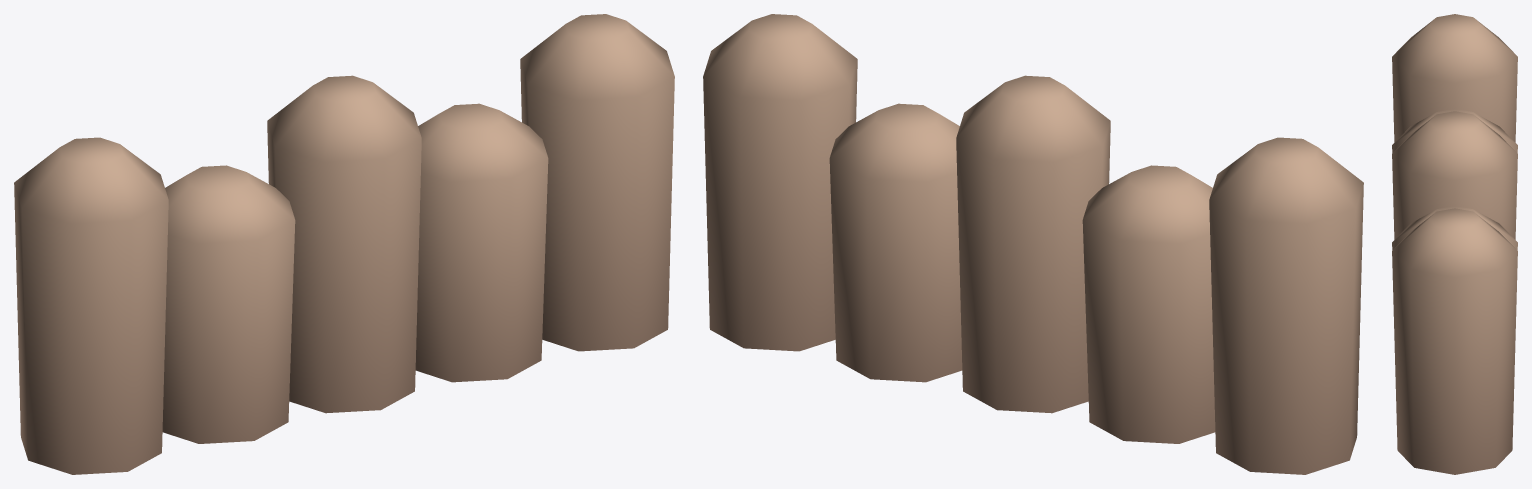
The model's file is flowerbed-fence-straight.glb.
3 renders of one model, left to right at view 1: azimuth 30°, elevation 25°; view 2: azimuth 150°, elevation 25°; view 3: azimuth 270°, elevation 25°, orthographic. The views are drawn at different scales.
Parts seen in each view (by area): view 1: flowerbed-fence-straight; view 2: flowerbed-fence-straight; view 3: flowerbed-fence-straight.
Boxes of the visible parts, x1,y1,x2,y2 form: flowerbed-fence-straight: (14,14,674,474); flowerbed-fence-straight: (703,14,1363,474); flowerbed-fence-straight: (1392,14,1517,474).
Size of the model in its own units: 0.4173 by 0.182 by 0.0897.
